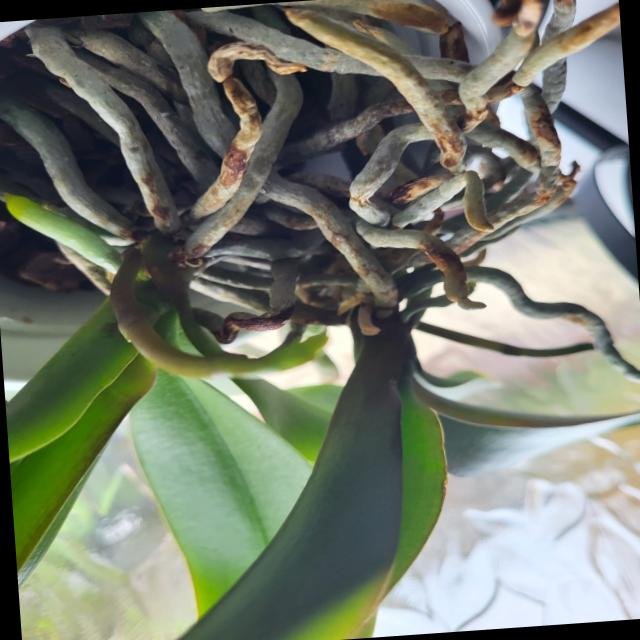leaf: (180, 365, 413, 640), (129, 371, 311, 617), (10, 363, 147, 581), (410, 378, 640, 476), (6, 303, 133, 461), (392, 393, 446, 574)
root: (26, 26, 179, 232), (285, 9, 466, 172), (184, 75, 301, 258), (465, 266, 640, 382), (0, 97, 132, 244), (267, 172, 397, 306), (139, 10, 236, 156), (188, 10, 375, 75), (356, 219, 484, 309), (350, 123, 430, 225), (459, 27, 535, 111)
